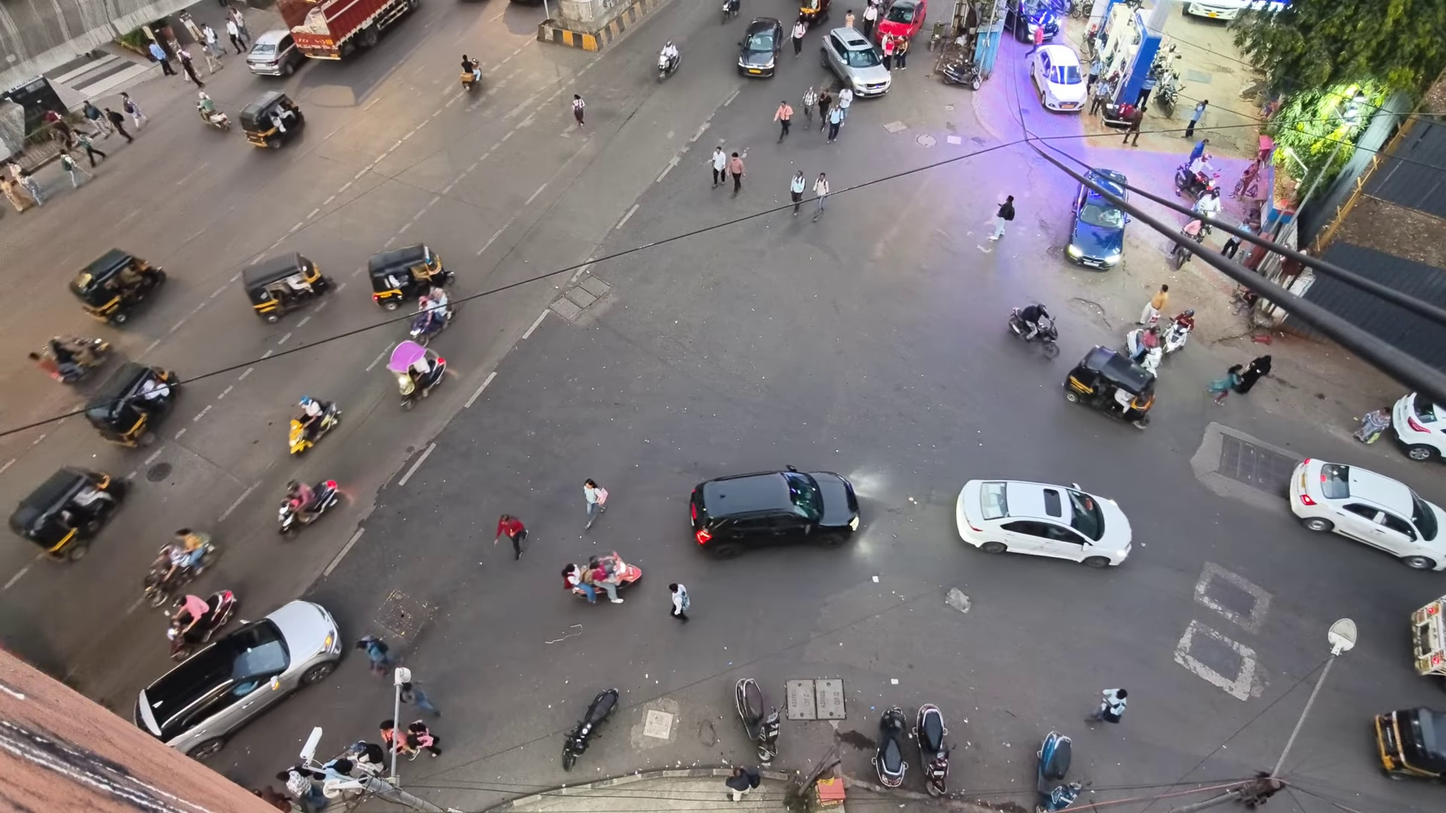driving: (133, 600, 341, 760), (1288, 458, 1445, 570), (689, 467, 859, 558), (956, 480, 1131, 567), (9, 466, 128, 560), (277, 0, 419, 59), (84, 361, 178, 447), (1064, 346, 1155, 429), (70, 248, 165, 324), (242, 252, 331, 322), (368, 243, 453, 309), (142, 534, 218, 607), (1066, 183, 1129, 269), (1374, 708, 1445, 781), (166, 589, 236, 660), (820, 27, 891, 96), (562, 688, 618, 769), (387, 340, 446, 409), (1030, 44, 1087, 111), (736, 678, 779, 766), (239, 90, 304, 148), (32, 336, 111, 383), (1036, 731, 1081, 812), (1391, 394, 1445, 460), (913, 703, 950, 796), (278, 480, 338, 537), (1411, 595, 1445, 684), (872, 706, 908, 788), (571, 551, 642, 592), (246, 29, 306, 77), (288, 401, 340, 454), (738, 18, 783, 77), (1007, 307, 1059, 358), (1004, 0, 1060, 41), (876, 0, 927, 41), (798, 0, 831, 28), (721, 0, 740, 23)
walking: (276, 766, 328, 812), (8, 160, 43, 205), (355, 635, 394, 675), (398, 681, 441, 716), (494, 513, 526, 559), (1086, 688, 1127, 723), (1235, 355, 1271, 394), (405, 720, 441, 757), (59, 149, 93, 187), (1209, 364, 1241, 404), (1136, 284, 1167, 324), (725, 766, 761, 800), (0, 176, 33, 212), (584, 479, 607, 528), (989, 195, 1014, 240), (252, 785, 293, 812), (83, 99, 111, 137), (176, 48, 203, 87), (202, 24, 223, 72), (120, 92, 147, 129), (77, 133, 106, 167), (105, 108, 133, 142), (1183, 100, 1208, 138), (148, 41, 175, 75), (1089, 78, 1113, 114), (227, 5, 251, 41), (813, 172, 830, 222), (669, 583, 690, 622), (1123, 106, 1144, 145), (774, 100, 793, 142), (1135, 72, 1157, 108), (226, 18, 246, 54), (790, 170, 806, 215), (711, 145, 728, 187), (728, 151, 744, 195), (817, 87, 833, 129), (801, 85, 817, 126), (1087, 53, 1103, 92), (1186, 138, 1209, 165), (792, 17, 807, 57), (863, 0, 878, 38), (828, 105, 843, 142), (836, 86, 853, 118), (895, 36, 910, 69), (1028, 25, 1045, 54), (881, 36, 895, 69), (572, 94, 585, 128), (844, 9, 855, 27)
